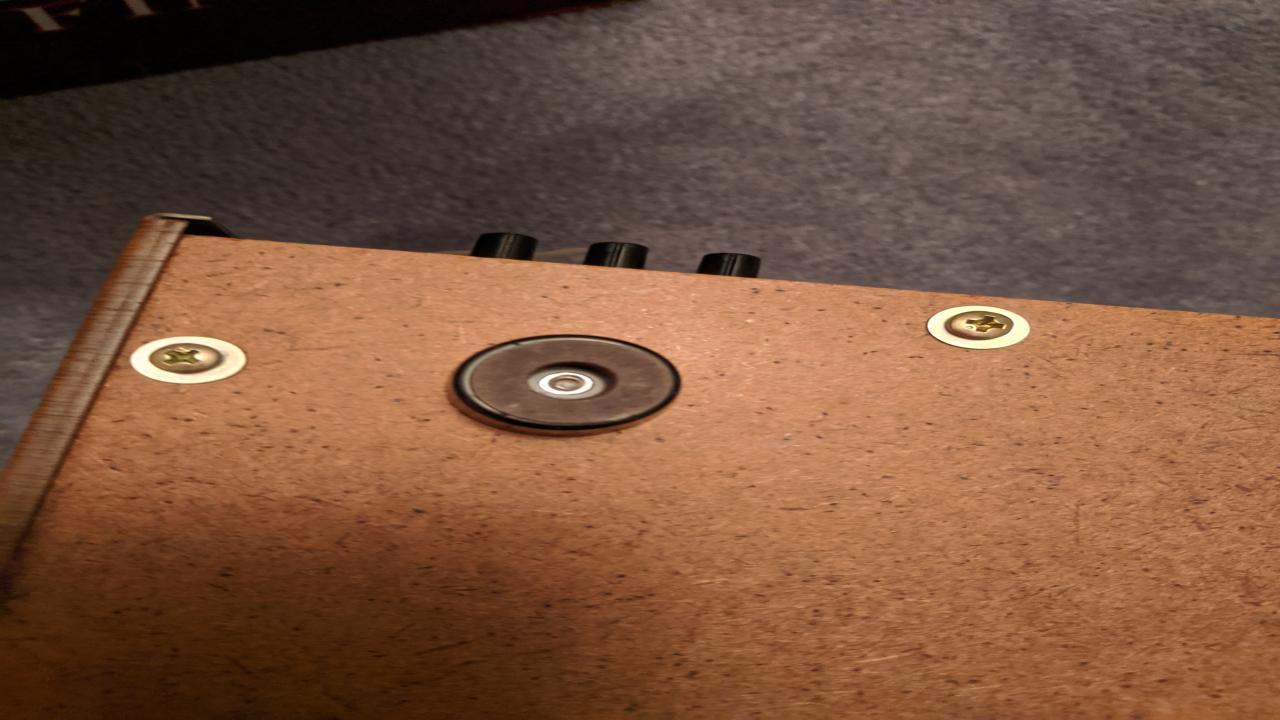CRS: (937, 312, 1025, 342), (148, 343, 230, 373)
